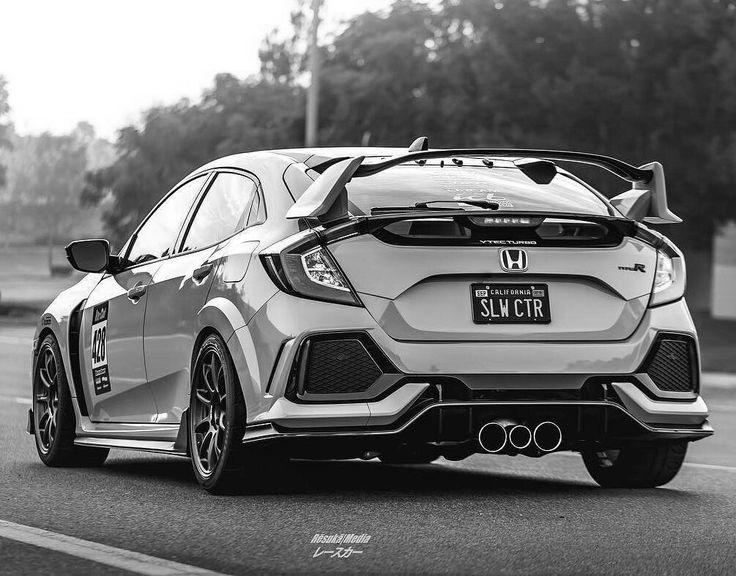Car boot: (322, 195, 665, 345)
Fender - -F-L-: (27, 277, 84, 432)
Fender - -R-L-: (185, 208, 299, 434)
Front bumper: (234, 295, 722, 459)
Passenger-s door - -F-L-: (74, 162, 181, 425)
Passenger-s door - -R-L-: (164, 163, 270, 424)
Rear light - -L-: (255, 214, 372, 311)
Rear light - -R-: (609, 210, 692, 311)
Side bumper - -L-: (66, 407, 204, 469)
Side mirror - -L-: (64, 229, 128, 286)
